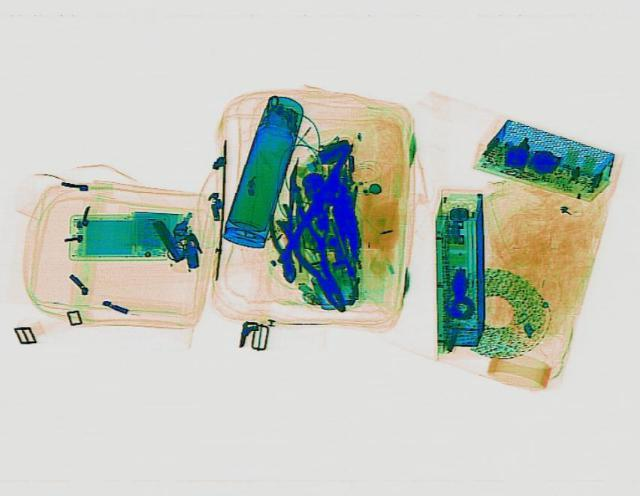Pliers: (268, 204, 362, 316), (264, 201, 300, 283)
